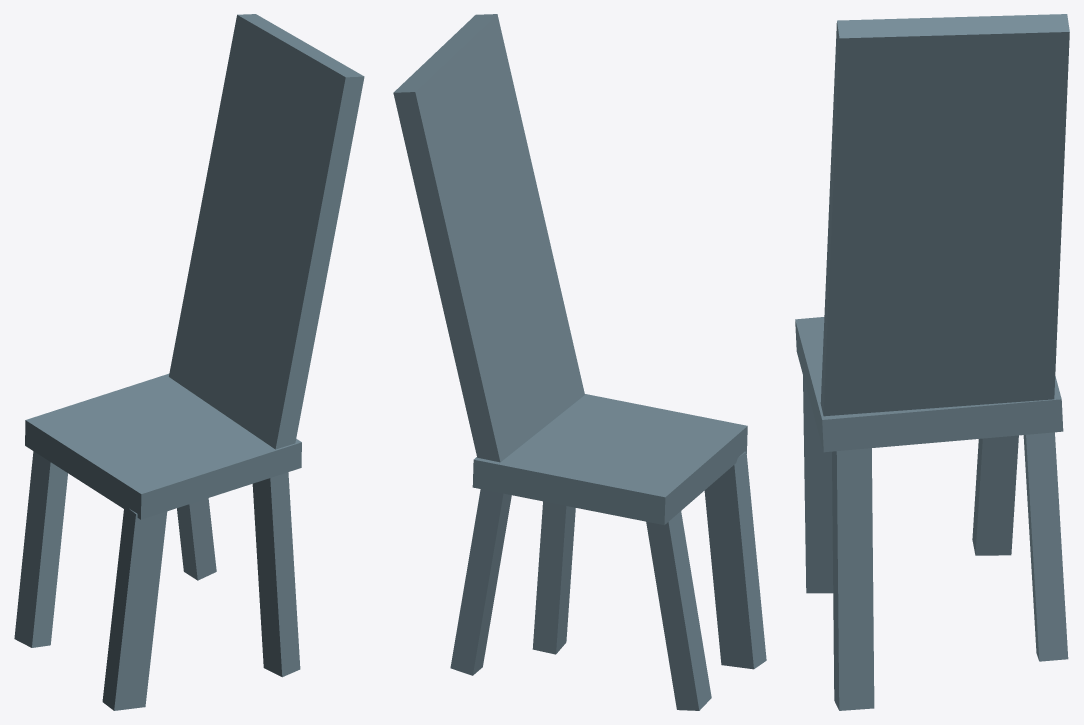
3 renders of one model, left to right at view 1: azimuth 30°, elevation 25°; view 2: azimuth 150°, elevation 25°; view 3: azimuth 270°, elevation 25°, orthographic. The views are drawn at different scales.
Parts seen in each view (by area): view 1: mesh_665520703, mesh_2099363312, mesh_172755002, mesh_426338413, mesh_1881864185, mesh_1290580378; view 2: mesh_665520703, mesh_2099363312, mesh_172755002, mesh_1881864185, mesh_1290580378, mesh_426338413; view 3: mesh_665520703, mesh_2099363312, mesh_426338413, mesh_1290580378, mesh_1881864185, mesh_172755002.
Part boxes in pixels (bbox=[...]): mesh_665520703: bbox=[169, 14, 364, 449]; mesh_2099363312: bbox=[25, 373, 301, 519]; mesh_172755002: bbox=[102, 508, 167, 710]; mesh_426338413: bbox=[252, 472, 300, 677]; mesh_1881864185: bbox=[14, 451, 67, 647]; mesh_1290580378: bbox=[177, 498, 216, 580]; mesh_665520703: bbox=[393, 14, 584, 462]; mesh_2099363312: bbox=[472, 394, 747, 525]; mesh_172755002: bbox=[704, 451, 766, 669]; mesh_1881864185: bbox=[646, 511, 711, 710]; mesh_1290580378: bbox=[450, 489, 511, 675]; mesh_426338413: bbox=[532, 501, 575, 654]; mesh_665520703: bbox=[820, 14, 1069, 416]; mesh_2099363312: bbox=[795, 317, 1063, 452]; mesh_426338413: bbox=[832, 448, 874, 710]; mesh_1290580378: bbox=[1023, 432, 1068, 661]; mesh_1881864185: bbox=[972, 435, 1018, 555]; mesh_172755002: bbox=[803, 376, 833, 593].
Bounding box in the file's own units: 68.79 × 136 × 47.15.
